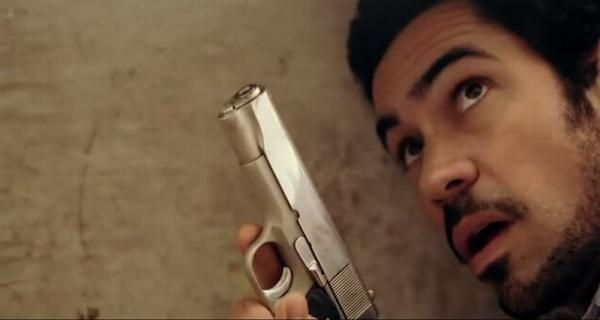Gun: (216, 83, 380, 320)
